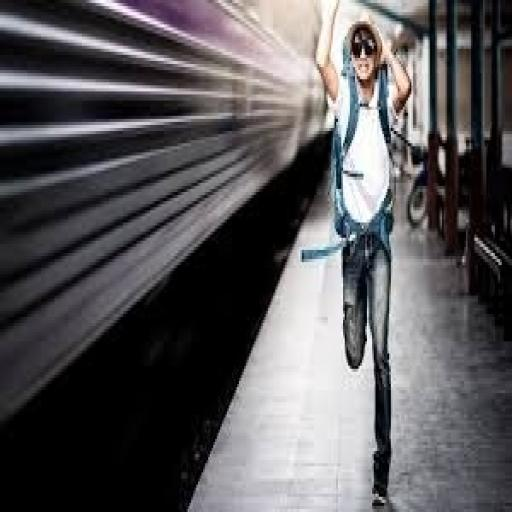running: (314, 3, 415, 509)
